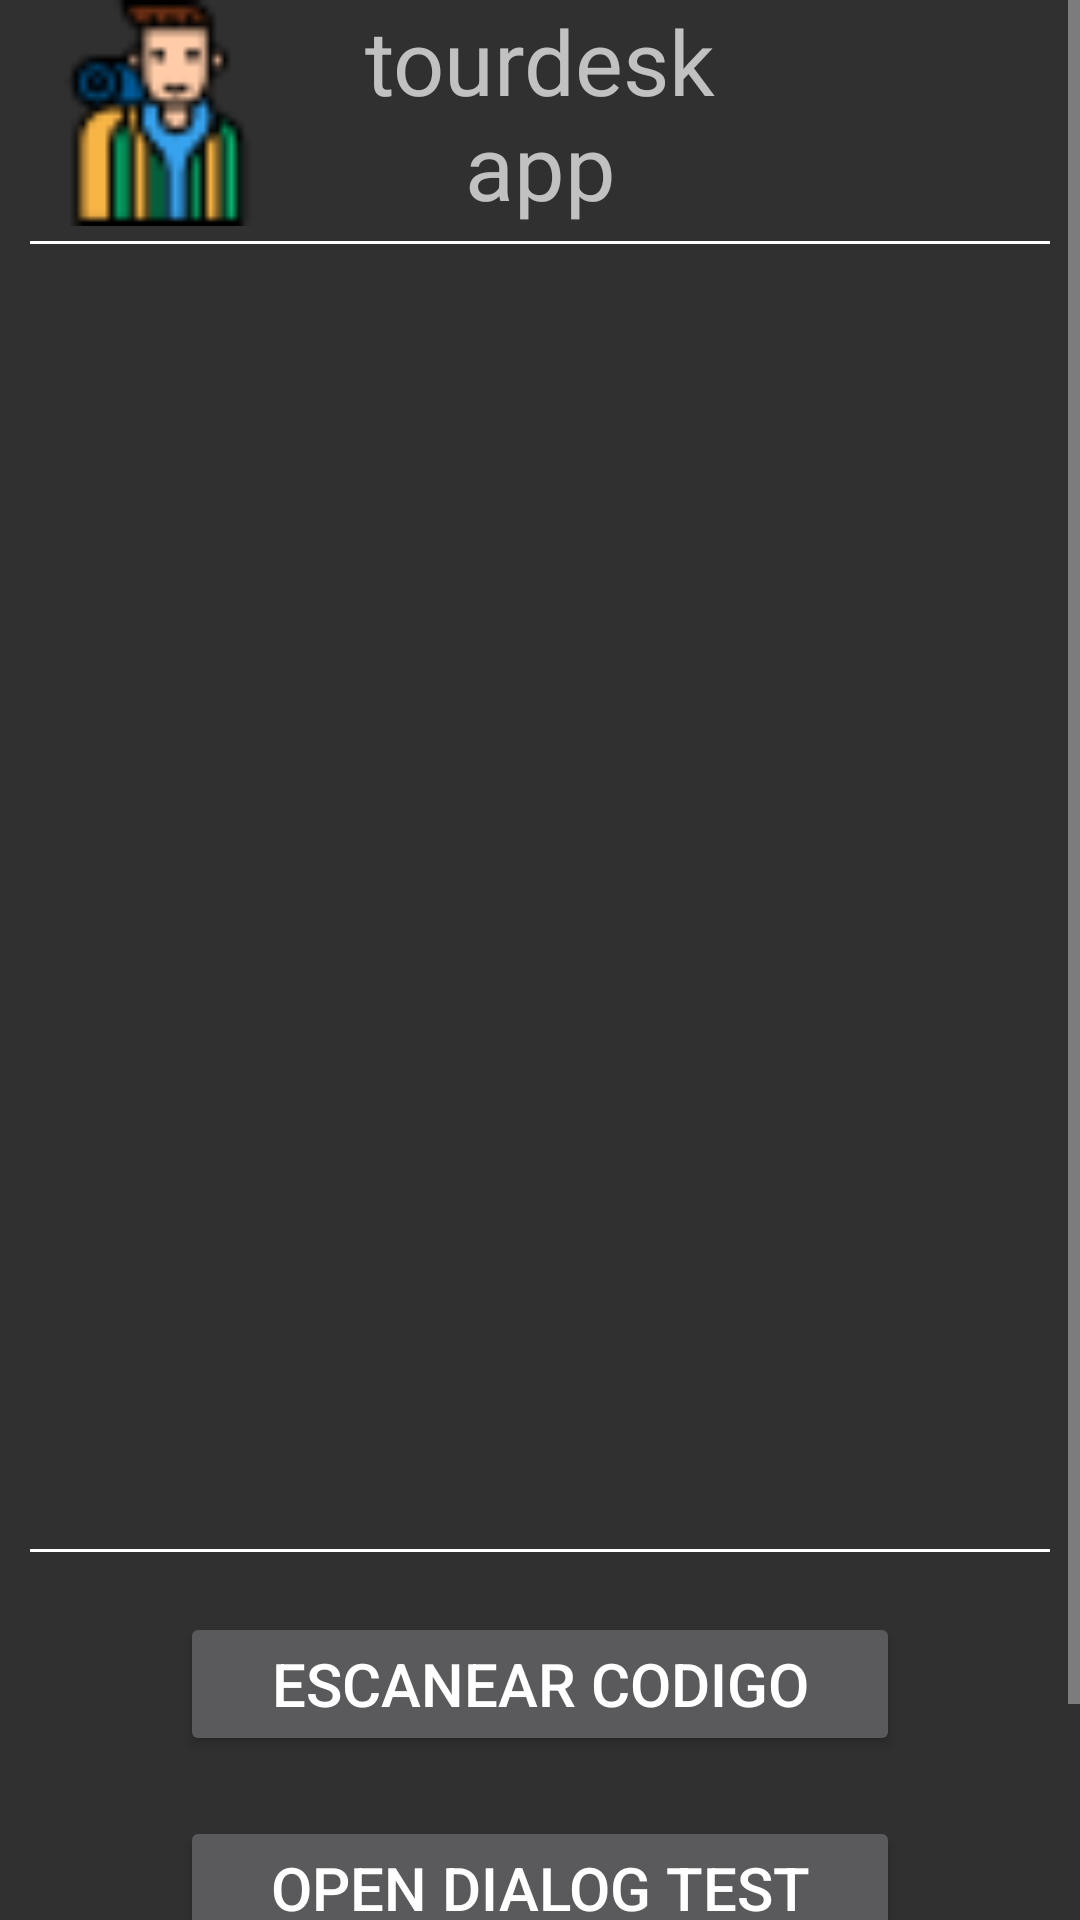

Where to tap for icons on this 1080 x 1920 app screen, as [x,y]:
backpacker: [157,113]
